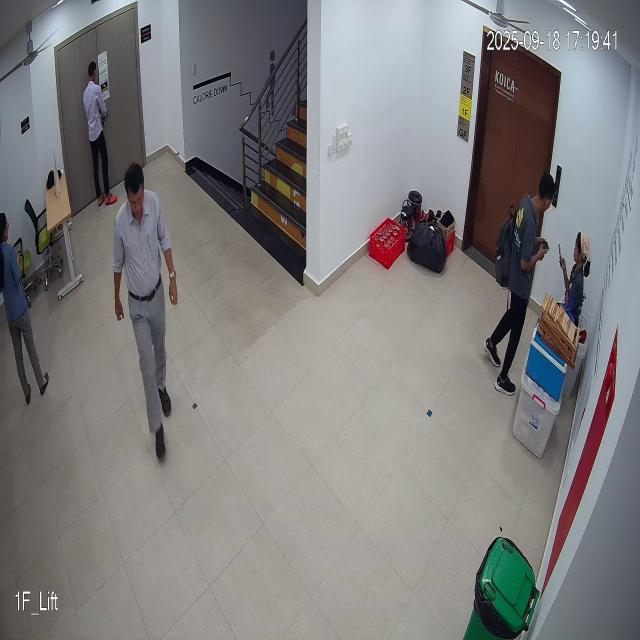face: (125, 160, 146, 220)
